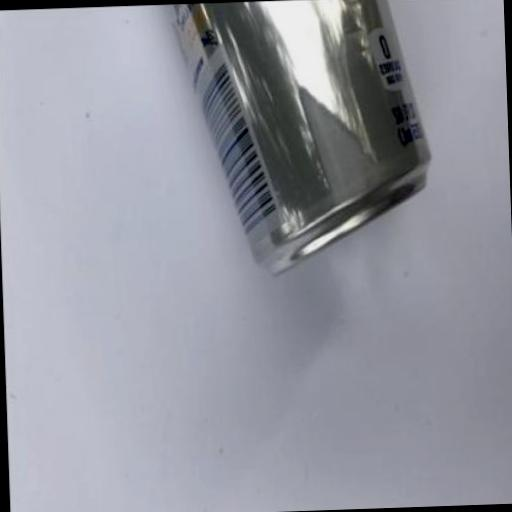metal: (168, 0, 433, 279)
